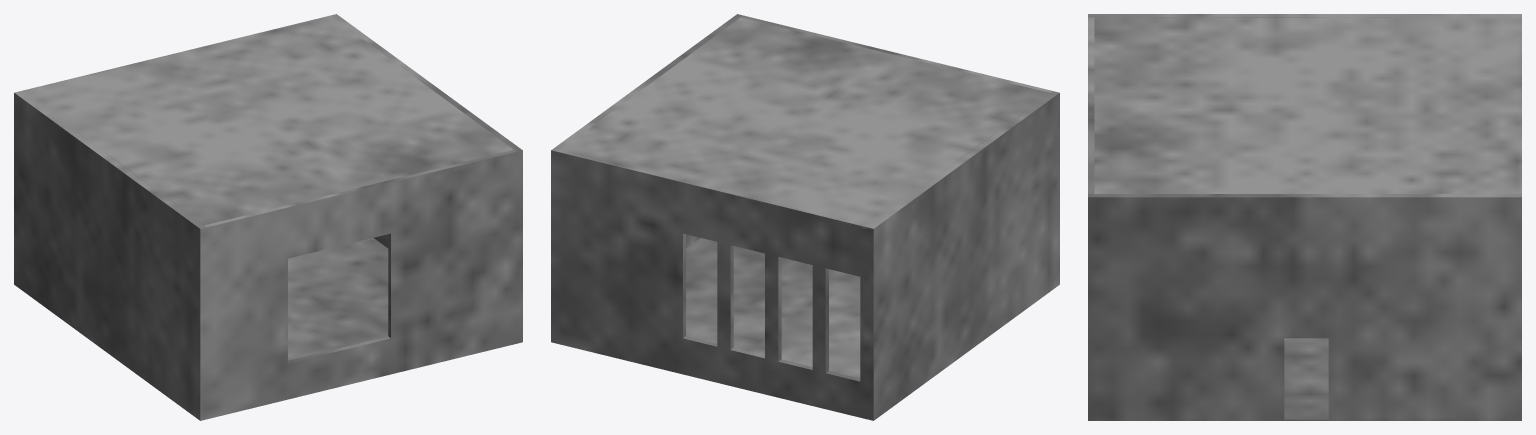
File: deddaed.obj
The picture shows the model from 3 angles, left to right: view 1: azimuth 30°, elevation 25°; view 2: azimuth 150°, elevation 25°; view 3: azimuth 270°, elevation 25°; orthographic projection. The views are drawn at different scales.
Visible parts, largest first — view 1: Cube.001; view 2: Cube.001; view 3: Cube.001.
Part boxes in pixels (x1,y1,x2,y2): Cube.001: [14, 14, 522, 420]; Cube.001: [551, 14, 1059, 420]; Cube.001: [1088, 14, 1521, 420].
Size of the model in its own units: 8.8 by 5.01 by 8.8.
